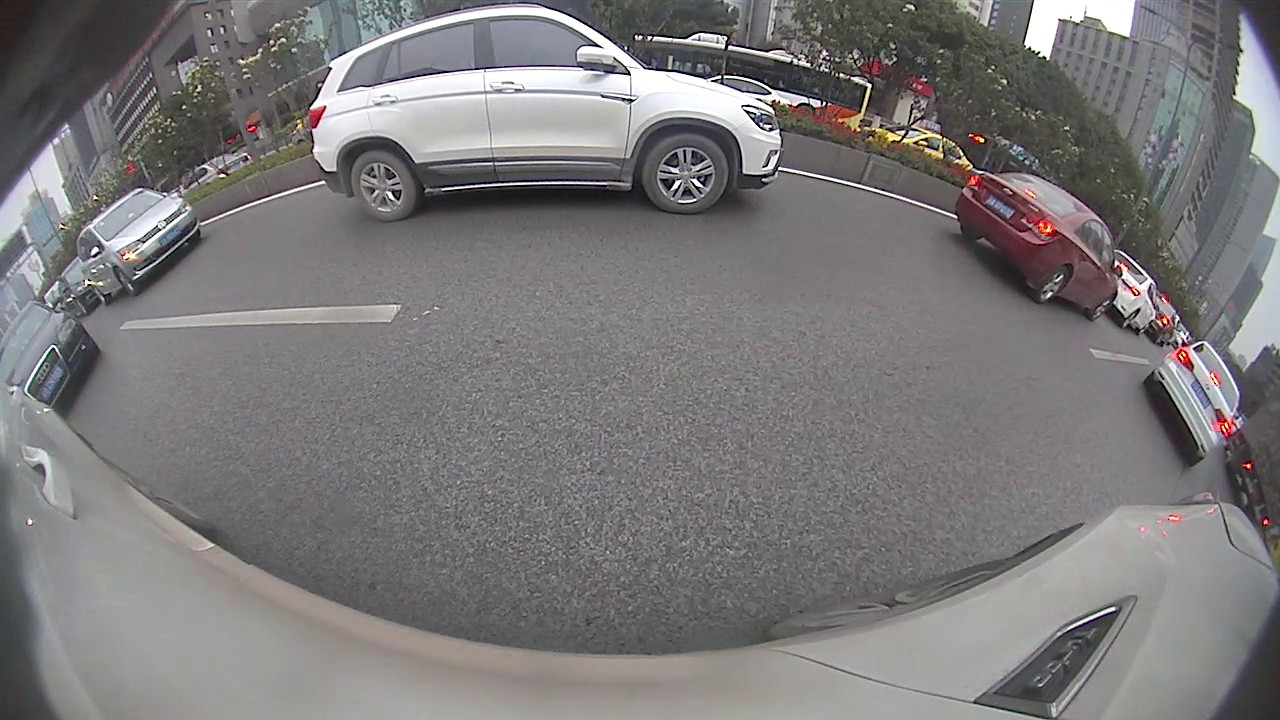car: (307, 2, 785, 222), (953, 170, 1123, 321), (77, 186, 202, 307), (1142, 338, 1241, 468), (1, 299, 99, 412)
front: (647, 134, 728, 215), (114, 267, 136, 296)
rear: (351, 151, 416, 220), (1036, 266, 1071, 304)
